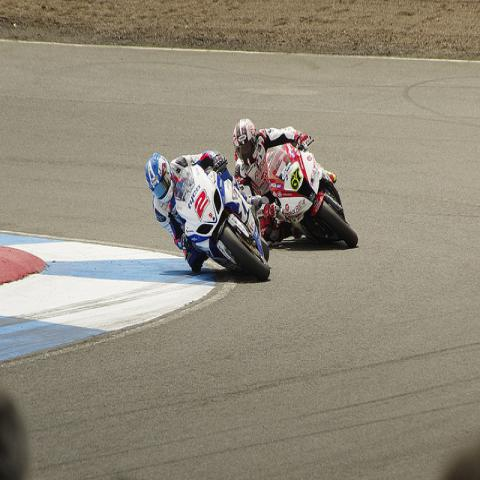motorcycle: (175, 161, 269, 281), (266, 134, 359, 247)
